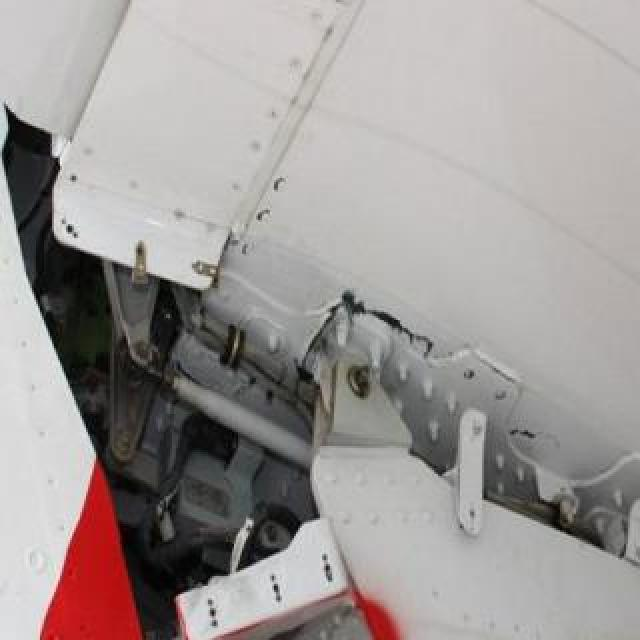crack: (301, 290, 437, 384), (462, 342, 526, 396), (509, 426, 561, 450)
